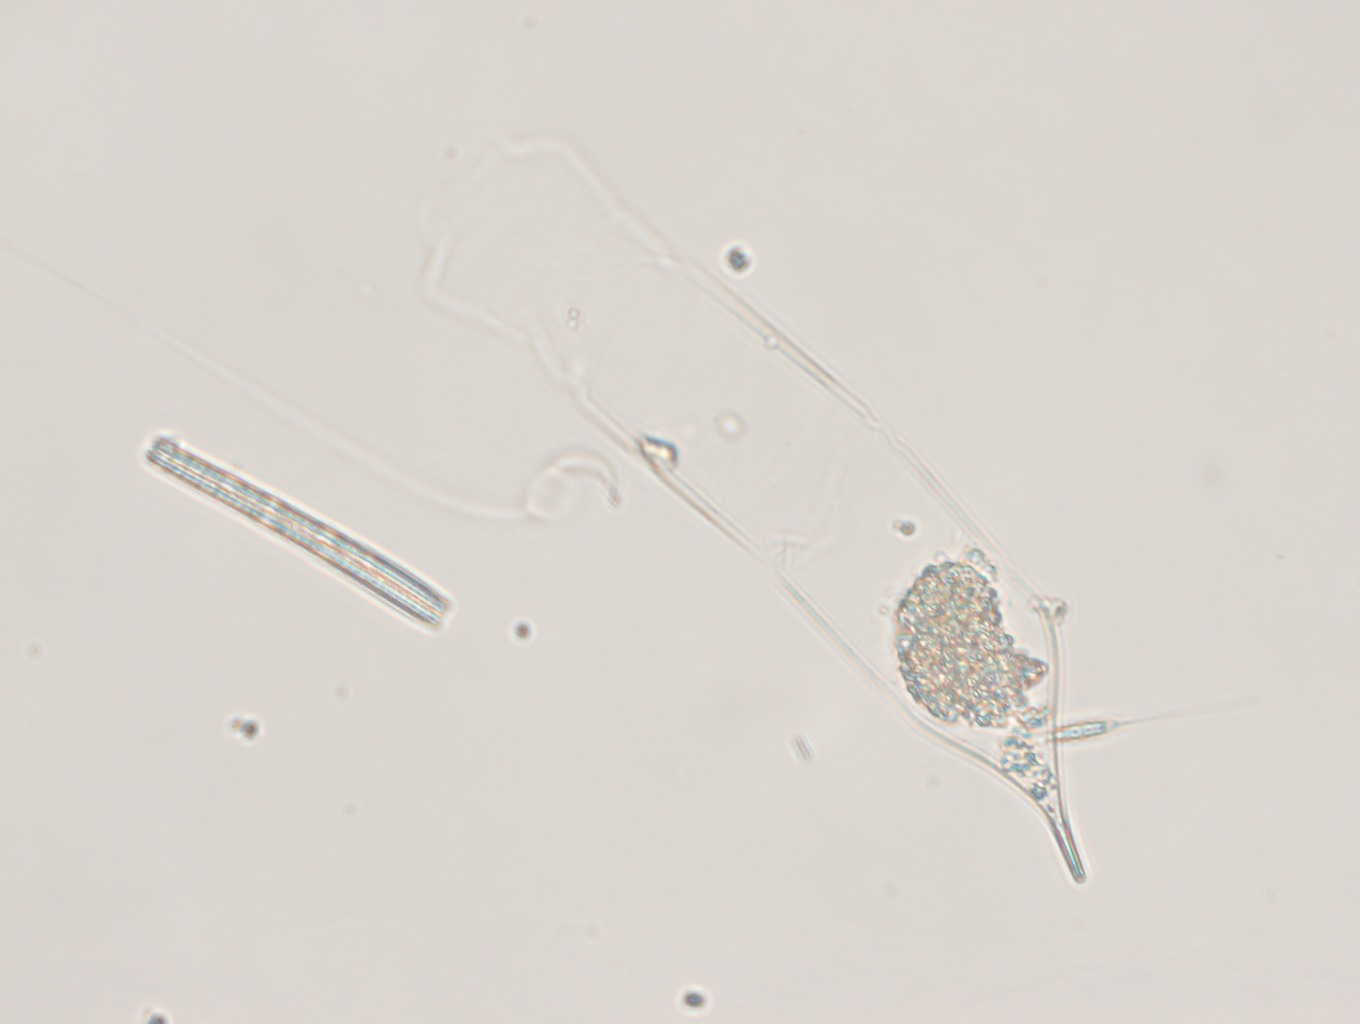rhizosolenia: (427, 117, 1103, 900)
